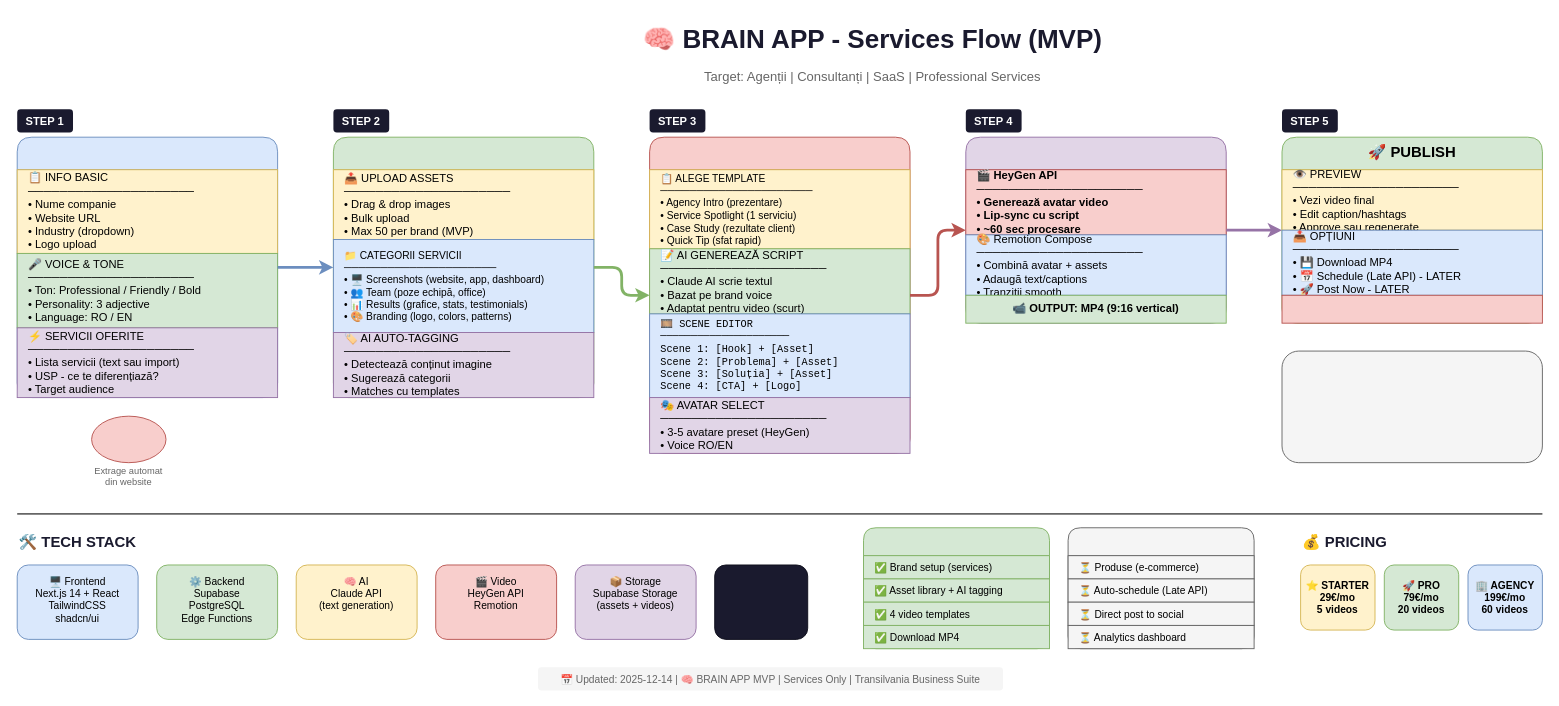
The diagram is 1559 pixels wide and 706 high, and some of its shapes have lost their labels. The shapes that lost their labels are listed below. From the top down, each one's box as (x1, y1, x2, y2) in pixels, then its label:
(965, 136, 1226, 323): ⚙️ RENDER VIDEO
(16, 136, 278, 398): 🏢 BRAND SETUP
(332, 136, 594, 398): 📸 ASSET LIBRARY
(649, 136, 910, 453): 🎬 VIDEO CREATION
(1281, 294, 1542, 323): 💳 -1 CREDIT USED
(1281, 350, 1542, 463): 📱 PLATFORME (LATER) 📸 Instagram Reels 🎵 TikTok 📘 Facebook Reels 💼 LinkedIn
(91, 415, 166, 463): 🤖 AI SCAN (opțional)
(714, 564, 808, 639): 🚀 Deploy Vercel
(863, 527, 1050, 649): ✅ MVP SCOPE
(1067, 527, 1254, 649): 🔜 LATER
